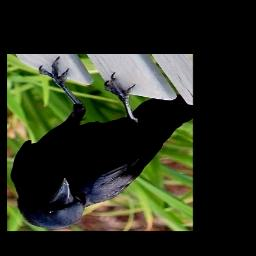Crow: (10, 56, 192, 228)
